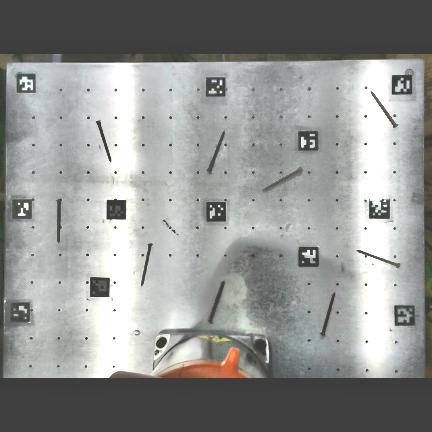golden_screw: (370, 92, 397, 127), (262, 169, 300, 191), (357, 250, 399, 267), (207, 132, 223, 172), (95, 121, 110, 161), (320, 293, 334, 335), (140, 243, 151, 286), (56, 200, 61, 242), (207, 314, 212, 323)
marker: (394, 304, 415, 325), (12, 198, 32, 219), (370, 198, 390, 218), (299, 246, 319, 266), (298, 130, 318, 150), (206, 75, 226, 95), (10, 300, 29, 321), (207, 201, 226, 222), (392, 75, 412, 94), (17, 73, 36, 93), (107, 200, 126, 219), (90, 278, 109, 296)
